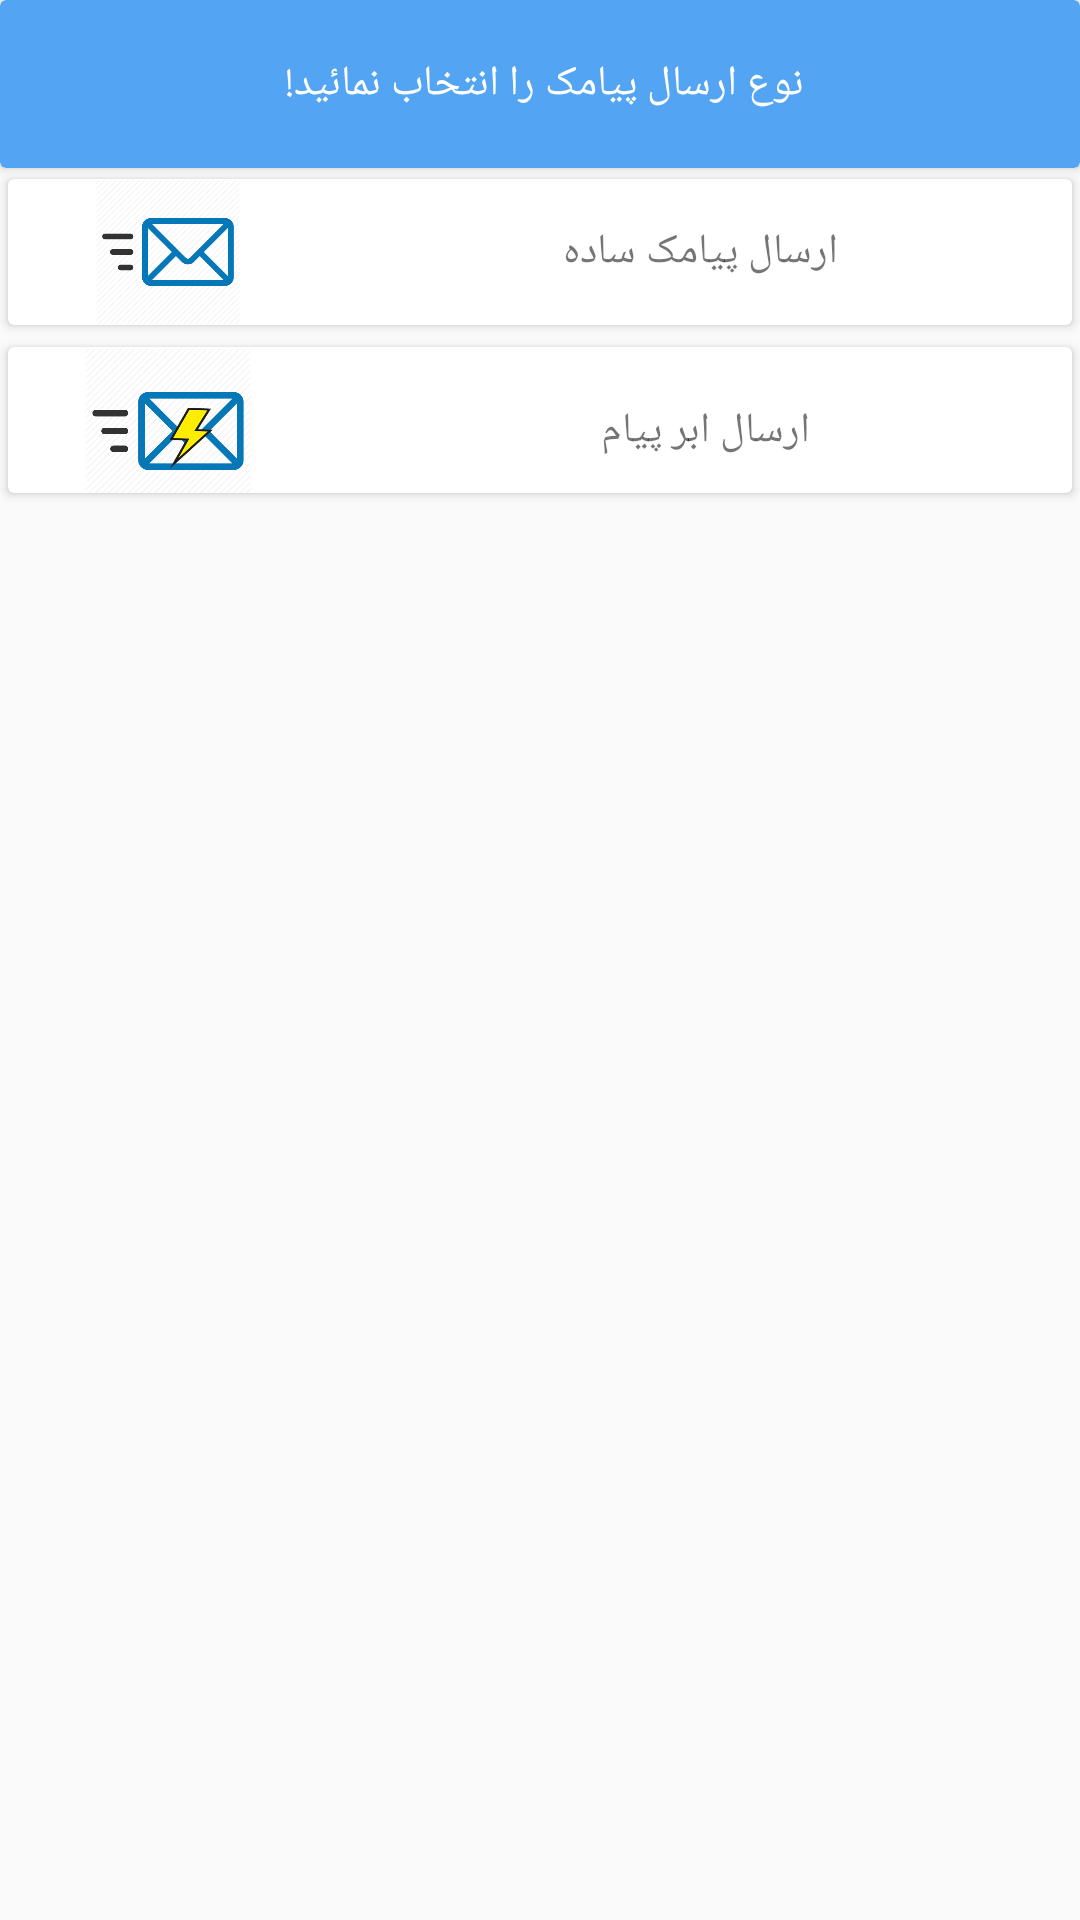

Screen size 1080 × 1920. Icon name, then its box in pixels as (x1, y1, x2, y2):
powersms: (8, 349, 244, 470)
